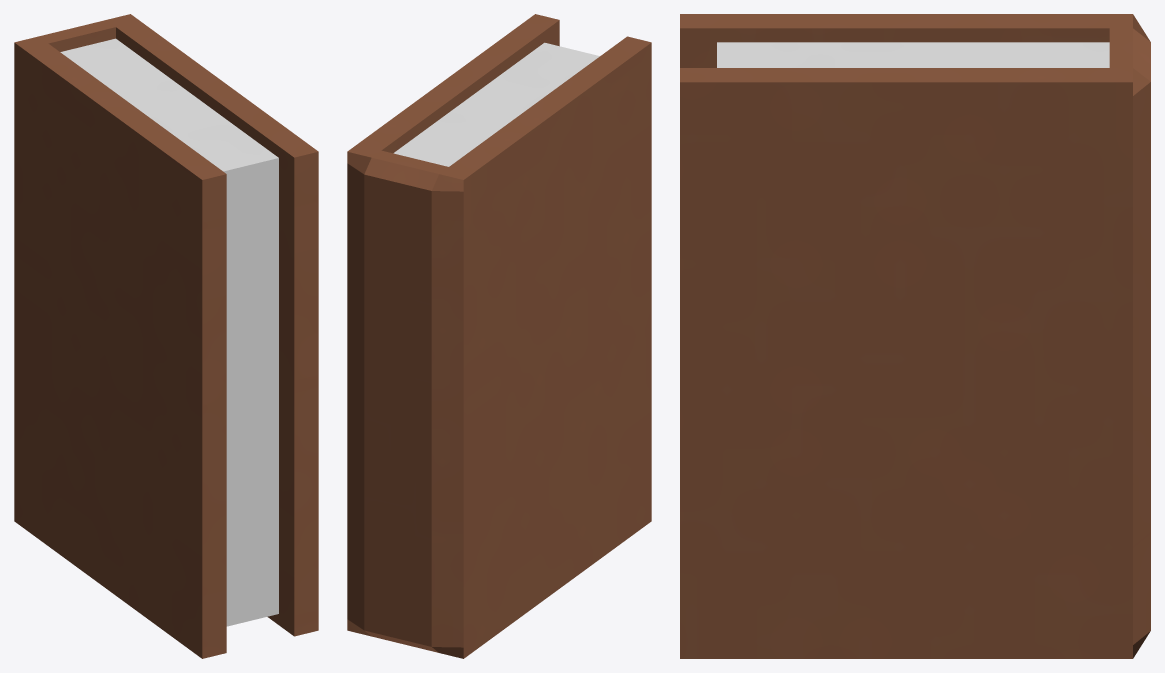
File: Book_01_02.fbx
The picture shows the model from 3 angles, left to right: view 1: azimuth 30°, elevation 25°; view 2: azimuth 150°, elevation 25°; view 3: azimuth 270°, elevation 25°; orthographic projection. The views are drawn at different scales.
Parts seen in each view (by area): view 1: Book_01_02; view 2: Book_01_02; view 3: Book_01_02.
Boxes of the visible parts, bbox=[...] form: Book_01_02: bbox=[14, 14, 318, 658]; Book_01_02: bbox=[347, 14, 651, 658]; Book_01_02: bbox=[680, 14, 1150, 658].
Bounding box in the file's own units: 0.0979 × 0.3847 × 0.2847.
